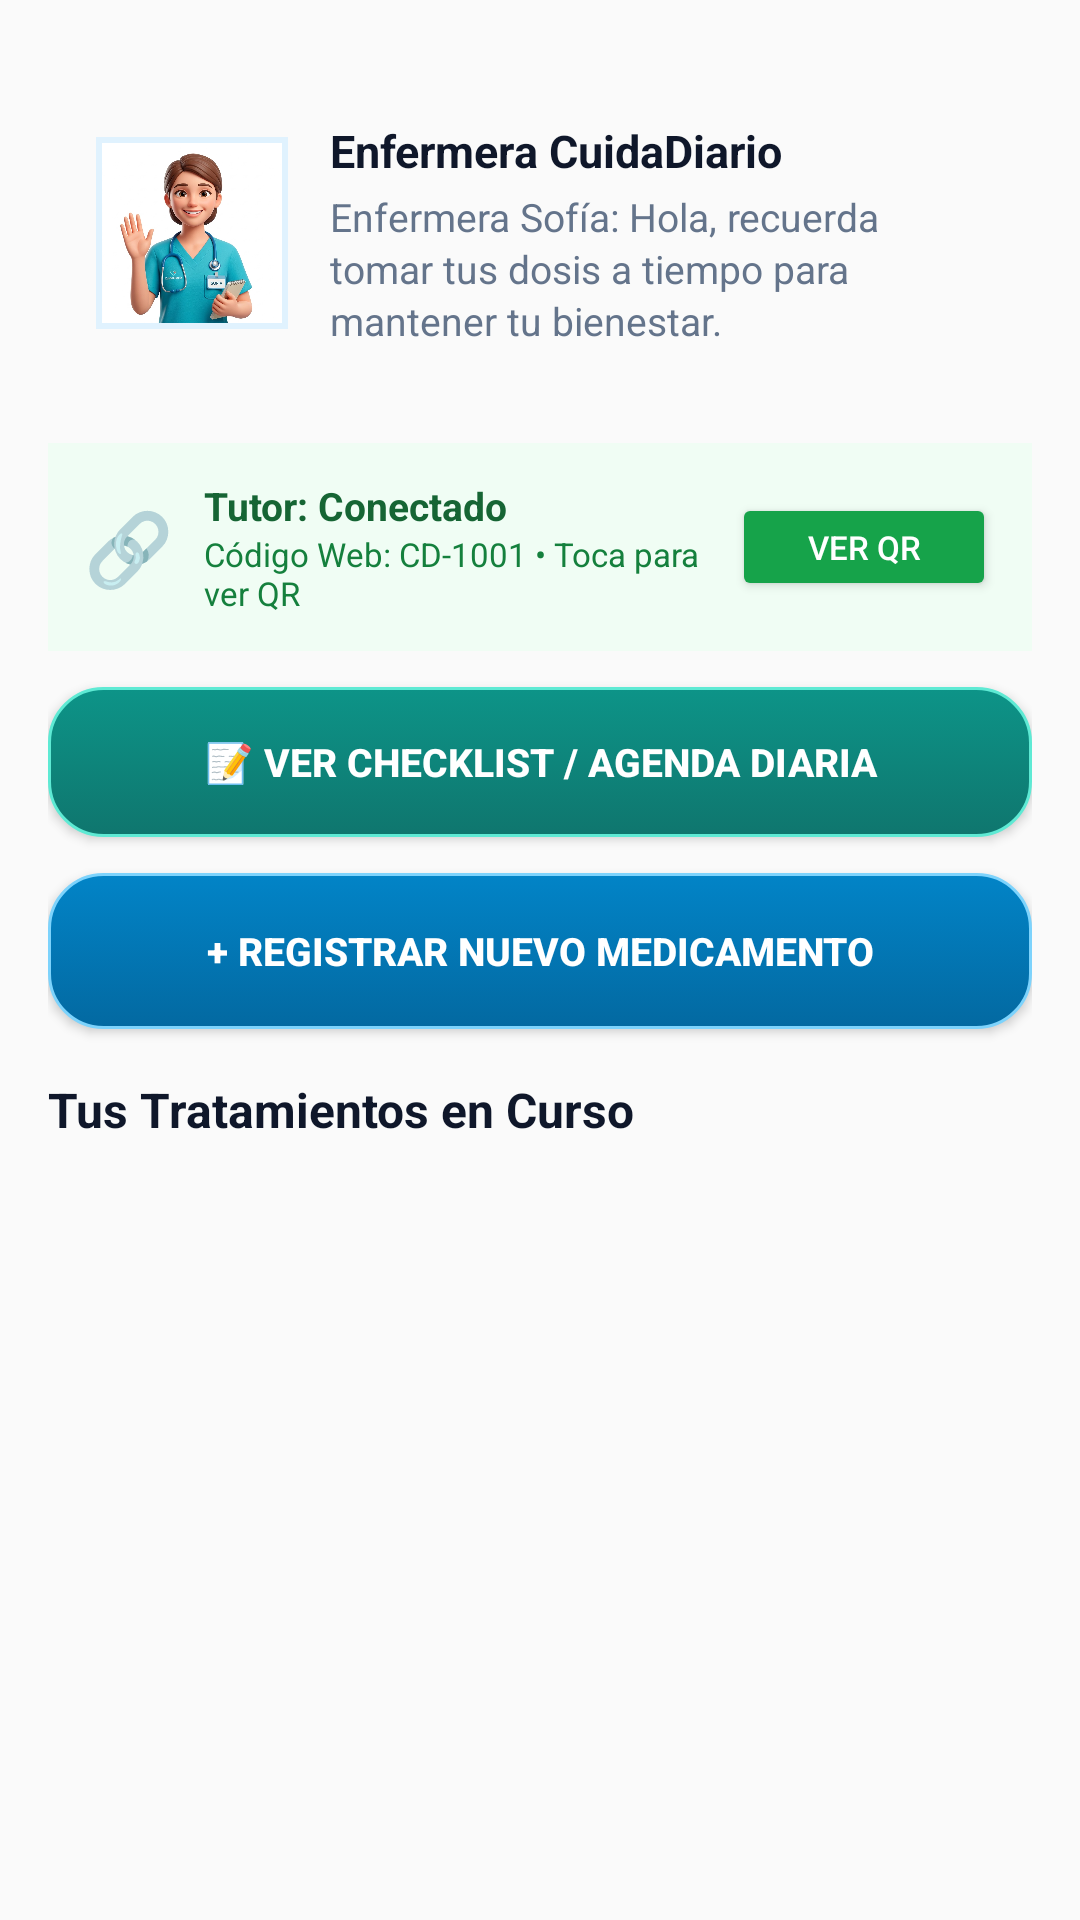

Icons on this 1080px x 1920px Android screen, each with the point to tap as (x=x, y=y):
nurse: (x=192, y=233)
